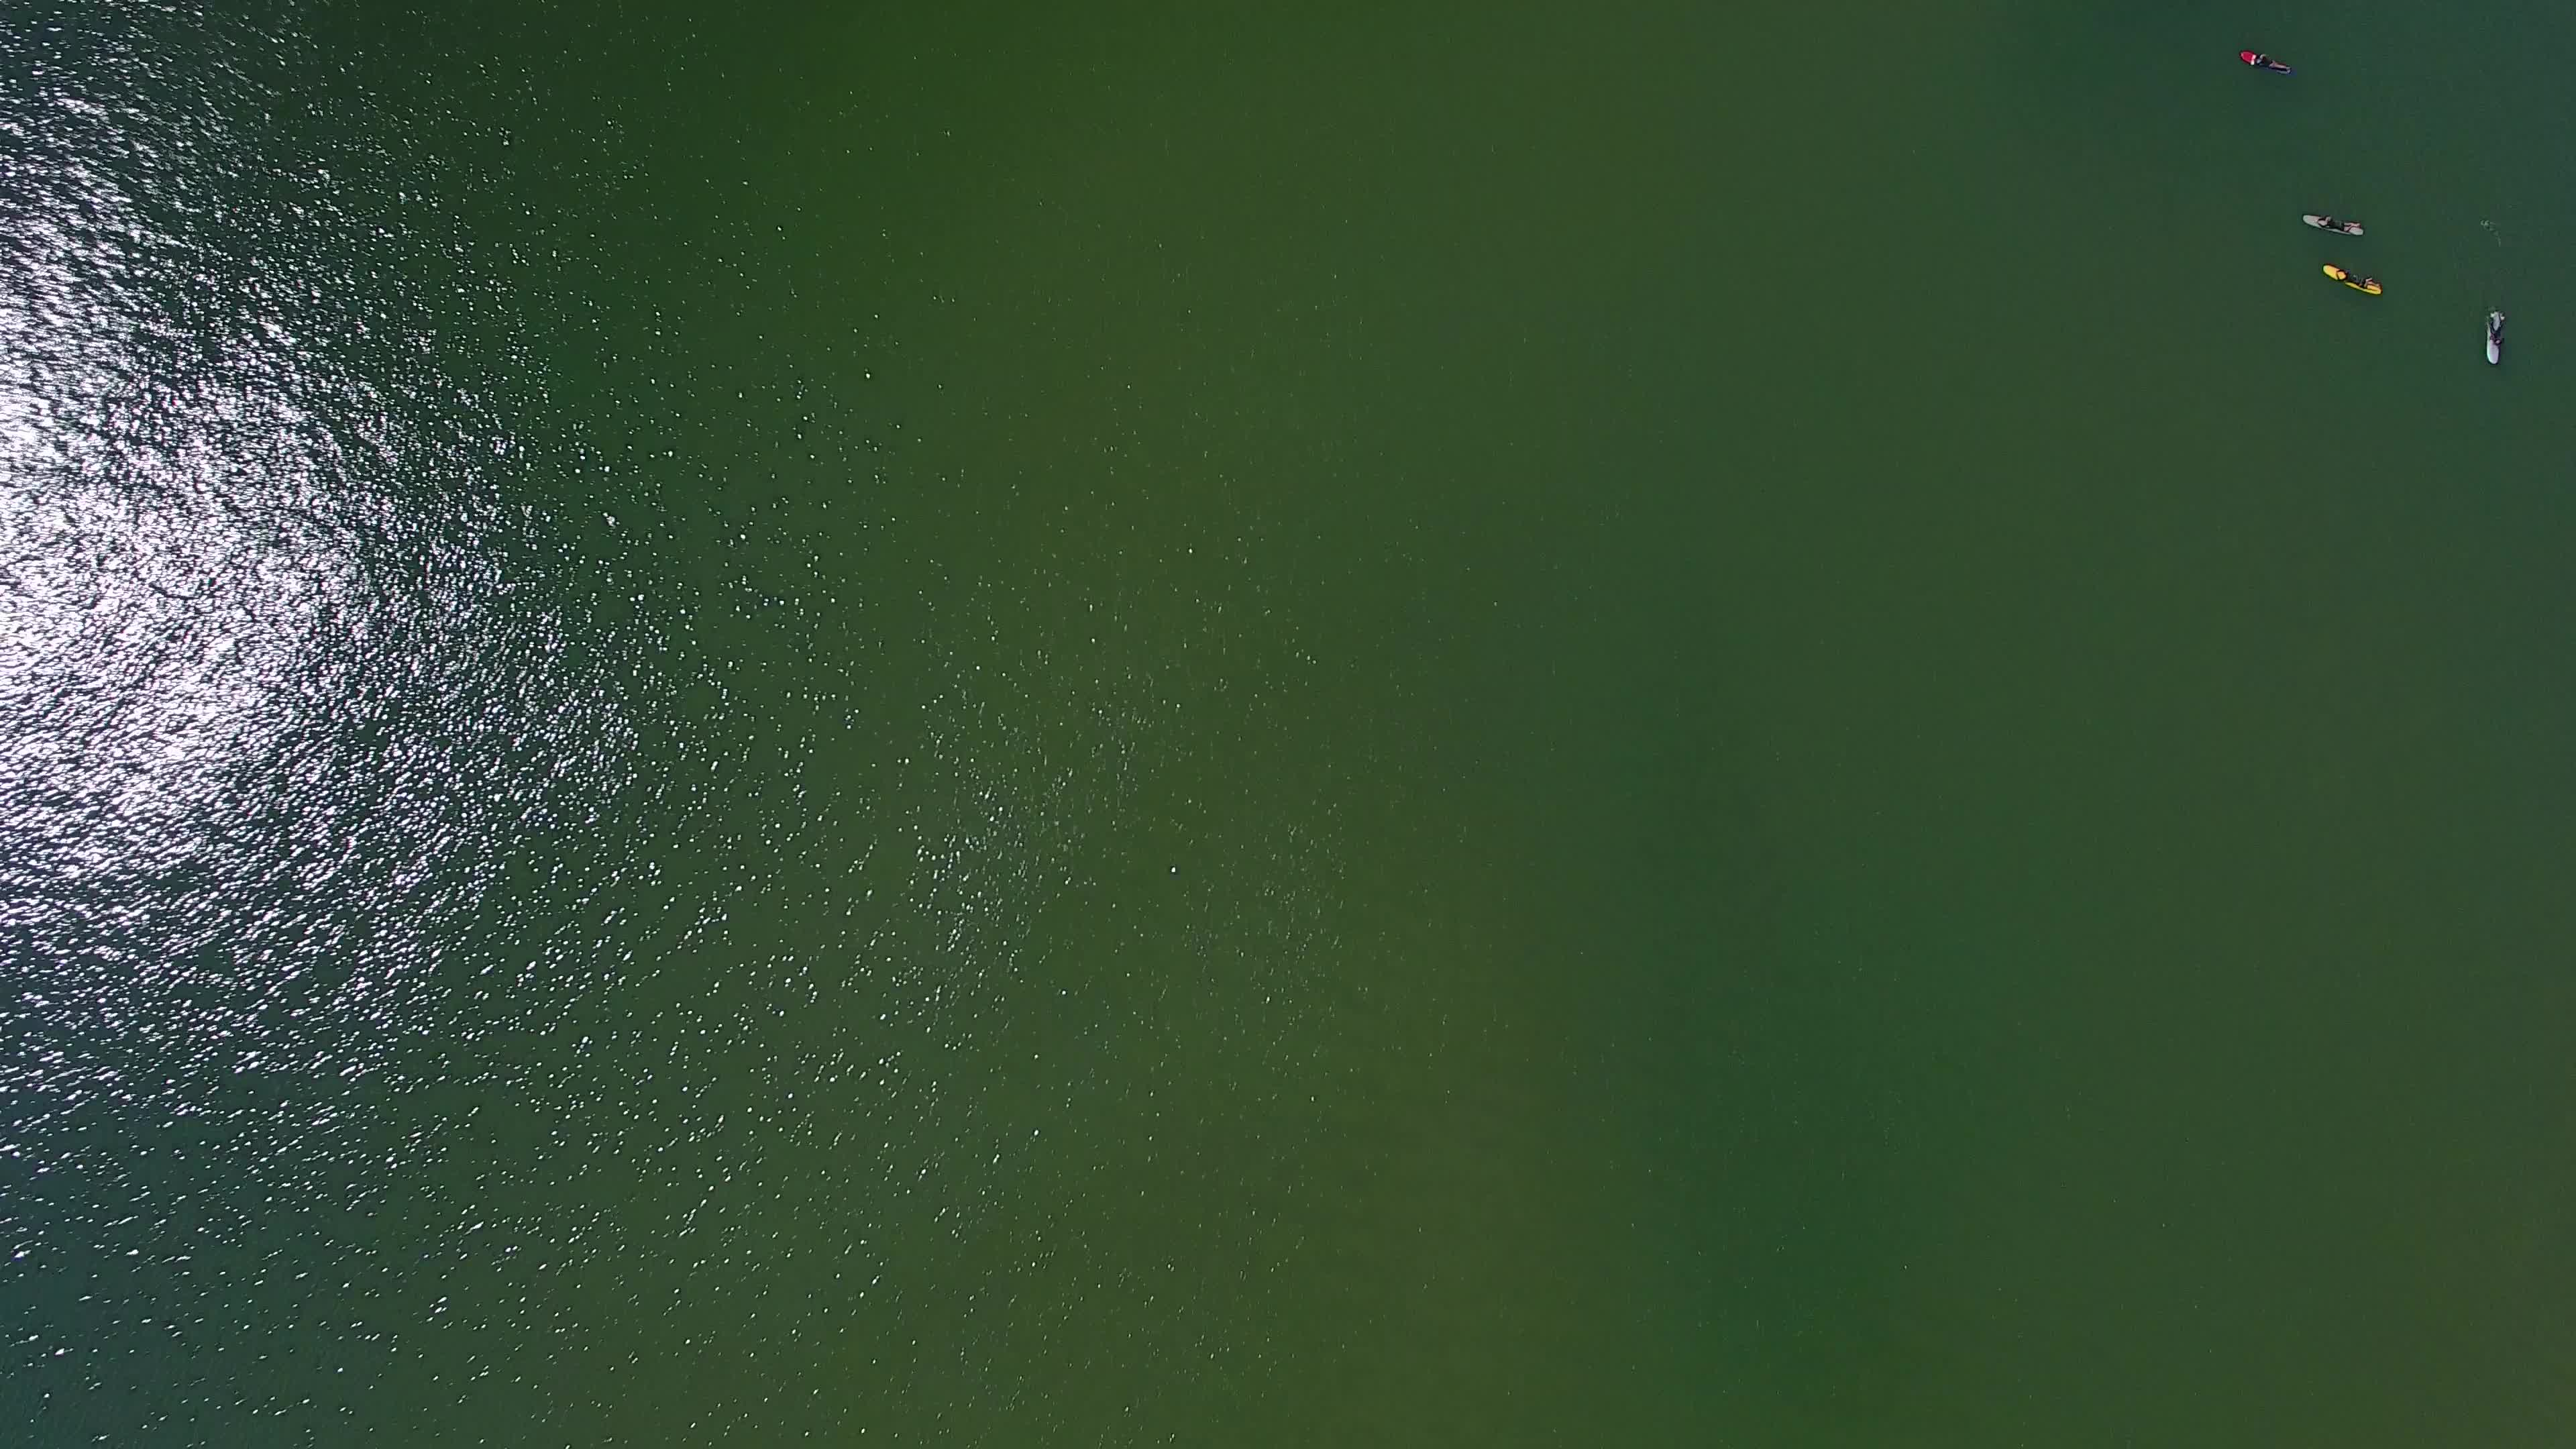surfer: (2311, 265, 2394, 306), (2475, 292, 2514, 377), (2295, 209, 2373, 246), (2235, 46, 2298, 78)
